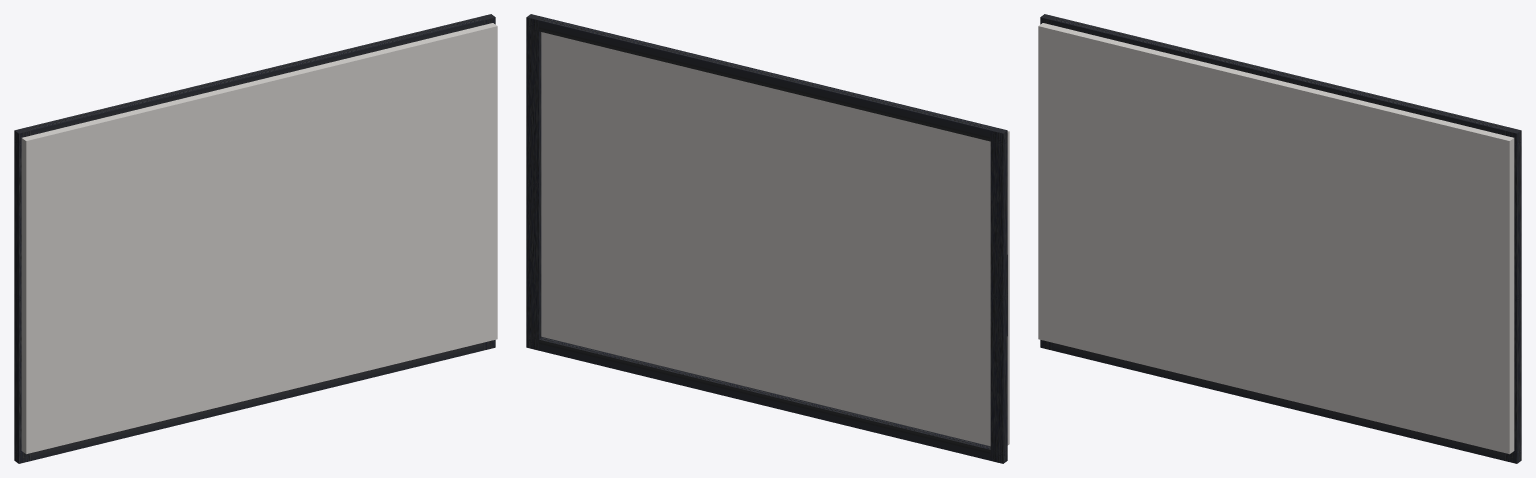
The model's file is whiteboard.fbx.
The picture shows the model from 3 angles, left to right: view 1: azimuth 30°, elevation 25°; view 2: azimuth 150°, elevation 25°; view 3: azimuth 330°, elevation 25°; orthographic projection.
Visible parts, largest first — view 1: whiteboard; view 2: whiteboard; view 3: whiteboard.
Boxes of the visible parts, x1,y1,x2,y2 form: whiteboard: (14,14,497,463); whiteboard: (526,14,1009,463); whiteboard: (1038,14,1521,463).
Bounding box in the file's own units: 121 × 80.36 × 4.
